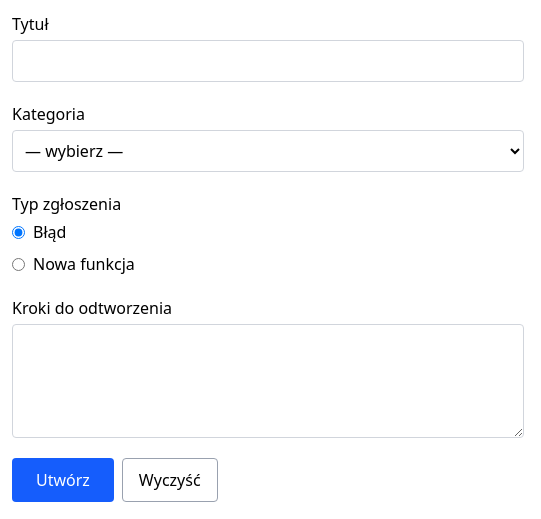
it: TicketForm — pole zależne od typu › swaps the field when the type changes
Click the radio button labelled "Nowa funkcja" at (18, 264), box [12,258,25,270]
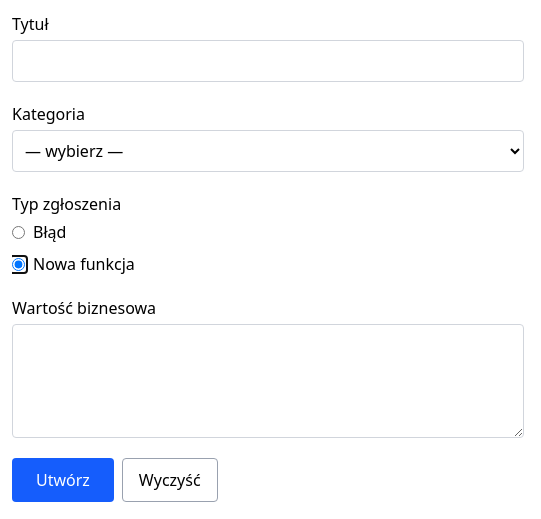
Check: the text box labelled "Wartość biznesowa" is shown, box [12,324,524,438]
Check: the label labelled "Kroki do odtworzenia" is gone
